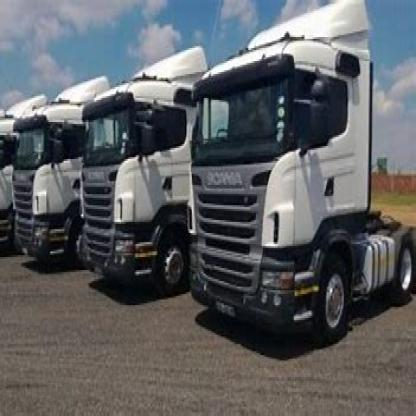dump_truck: (188, 20, 415, 346), (73, 33, 192, 357), (7, 30, 80, 290)
